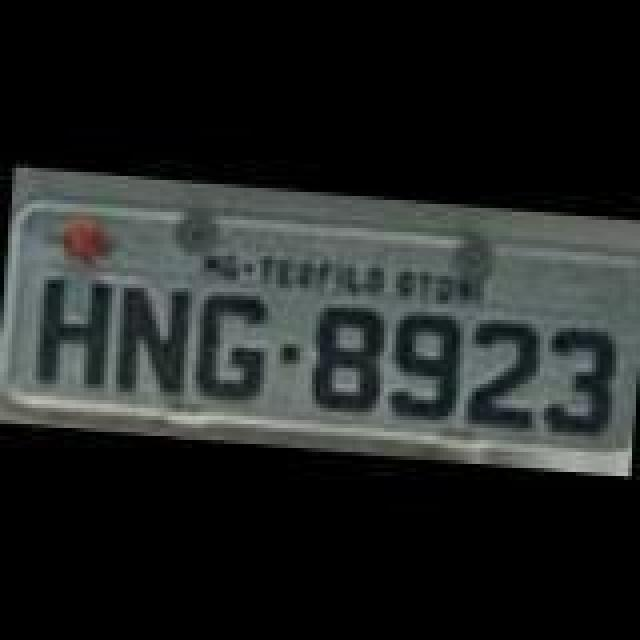2: (462, 312, 546, 432)
3: (534, 318, 618, 442)
8: (304, 300, 392, 420)
9: (384, 312, 464, 424)
G: (192, 286, 272, 402)
H: (28, 270, 116, 394)
N: (110, 274, 194, 398)
